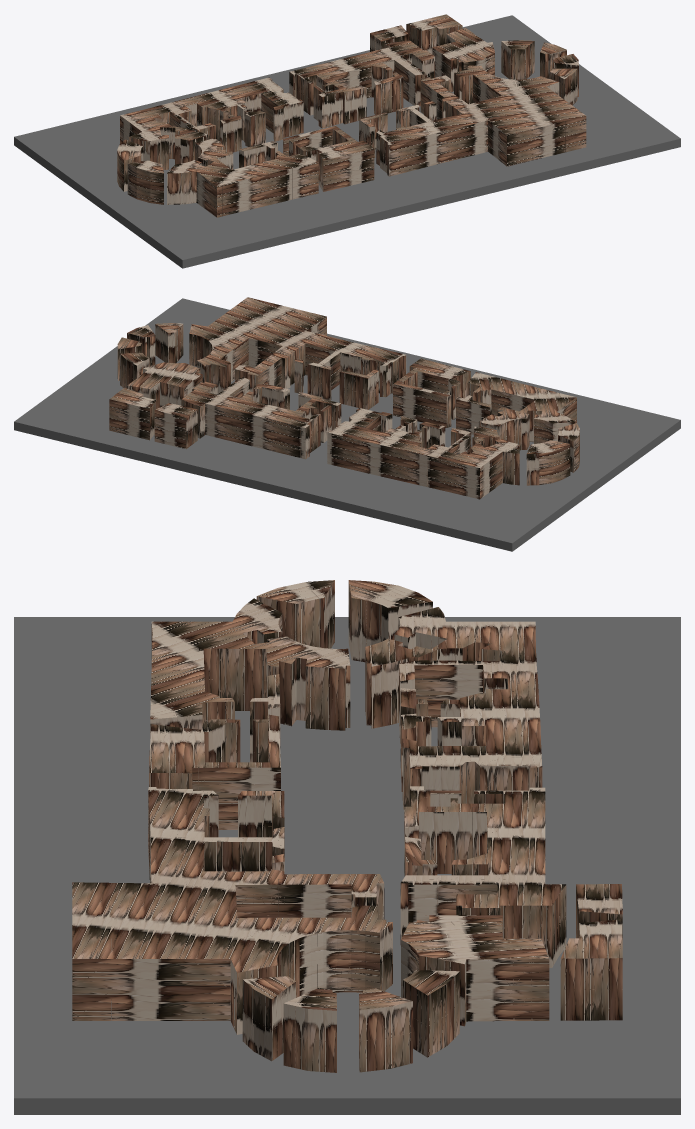
File: KajaaniCastle.fbx
3 renders of one model, top to bottom at view 1: azimuth 30°, elevation 25°; view 2: azimuth 150°, elevation 25°; view 3: azimuth 270°, elevation 25°, orthographic. The views are drawn at different scales.
Visible parts, largest first — view 1: Floor.001, Castle_cell.765, Castle_cell.454, Castle_cell.442, Castle_cell.507, Castle_cell.957, Castle_cell.079, Castle_cell.511, Castle_cell.918, Castle_cell.798, Castle_cell.431, Castle_cell.888 (+11 smaller); view 2: Floor.001, Castle_cell.798, Castle_cell.454, Castle_cell.442, Castle_cell.507, Castle_cell.911, Castle_cell.254, Castle_cell.957, Castle_cell.922, Castle_cell.136, Castle_cell.070, Castle_cell.622 (+9 smaller); view 3: Floor.001, Castle_cell.105, Castle_cell.454, Castle_cell.388, Castle_cell.507, Castle_cell.974, Castle_cell.798, Castle_cell.431, Castle_cell.542, Castle_cell.765, Castle_cell.541, Castle_cell.957 (+35 smaller).
Part boxes in pixels (x1,y1,x2,y2): Floor.001: [14, 15, 680, 268]; Castle_cell.765: [516, 113, 564, 146]; Castle_cell.454: [495, 98, 553, 122]; Castle_cell.442: [254, 157, 292, 189]; Castle_cell.507: [215, 164, 267, 193]; Castle_cell.957: [475, 109, 515, 142]; Castle_cell.079: [212, 176, 252, 200]; Castle_cell.511: [525, 137, 564, 161]; Castle_cell.918: [497, 123, 525, 150]; Castle_cell.798: [486, 87, 532, 107]; Castle_cell.431: [555, 108, 586, 136]; Castle_cell.888: [338, 147, 363, 171]; Floor.001: [14, 298, 680, 551]; Castle_cell.798: [226, 325, 274, 361]; Castle_cell.454: [238, 310, 296, 334]; Castle_cell.442: [485, 378, 526, 409]; Castle_cell.507: [513, 385, 555, 411]; Castle_cell.911: [290, 337, 326, 362]; Castle_cell.254: [232, 408, 260, 432]; Castle_cell.957: [279, 319, 316, 337]; Castle_cell.922: [259, 415, 286, 438]; Castle_cell.136: [232, 426, 259, 447]; Castle_cell.070: [329, 347, 356, 373]; Castle_cell.622: [121, 398, 145, 422]; Floor.001: [14, 617, 680, 1114]; Castle_cell.105: [112, 938, 190, 989]; Castle_cell.454: [113, 900, 195, 938]; Castle_cell.388: [191, 937, 253, 996]; Castle_cell.507: [151, 631, 229, 679]; Castle_cell.974: [112, 990, 190, 1020]; Castle_cell.798: [196, 901, 284, 938]; Castle_cell.431: [72, 938, 111, 989]; Castle_cell.542: [489, 947, 531, 989]; Castle_cell.765: [72, 900, 113, 950]; Castle_cell.541: [177, 839, 238, 871]; Castle_cell.957: [110, 876, 192, 901].
Bounding box in the file's own units: 5994 × 458 × 3511.
